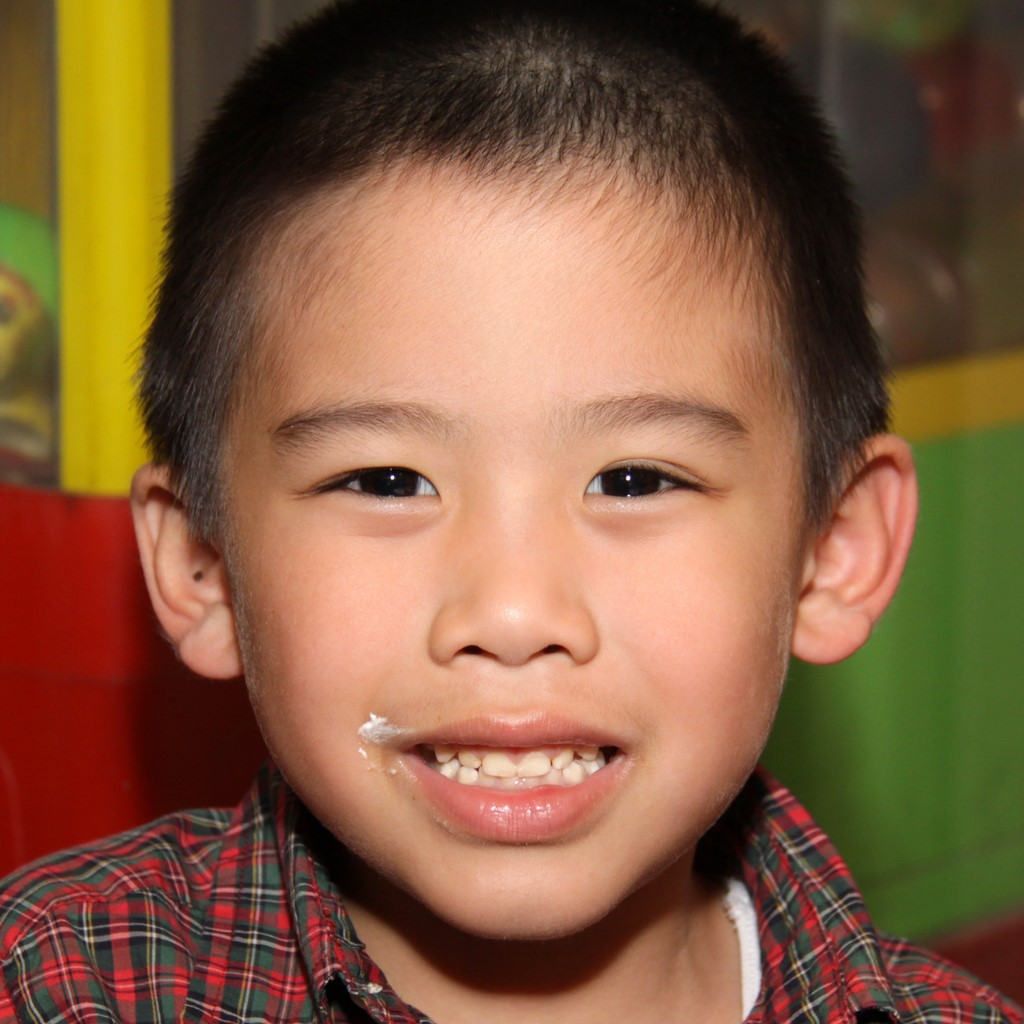sin_mascara: (157, 46, 897, 949)
